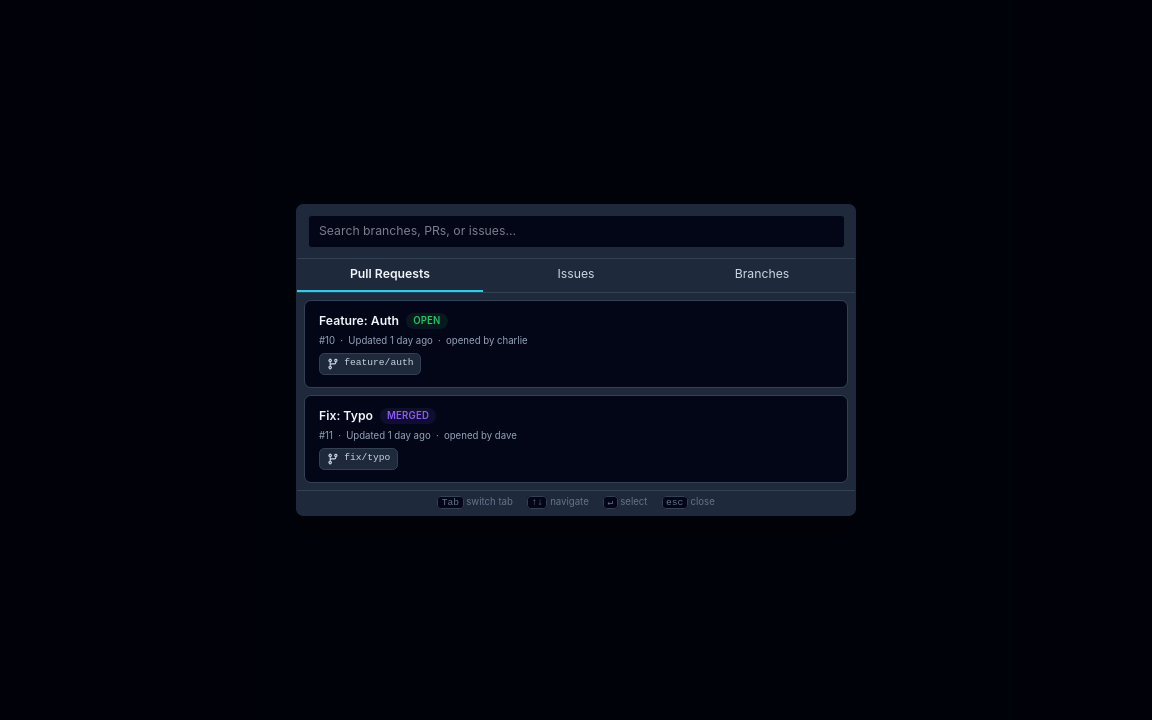
UnifiedSearchModal › switches to Issues tab on click
Click the button with test id "tab-issues": (576, 276) [483,259,669,292]
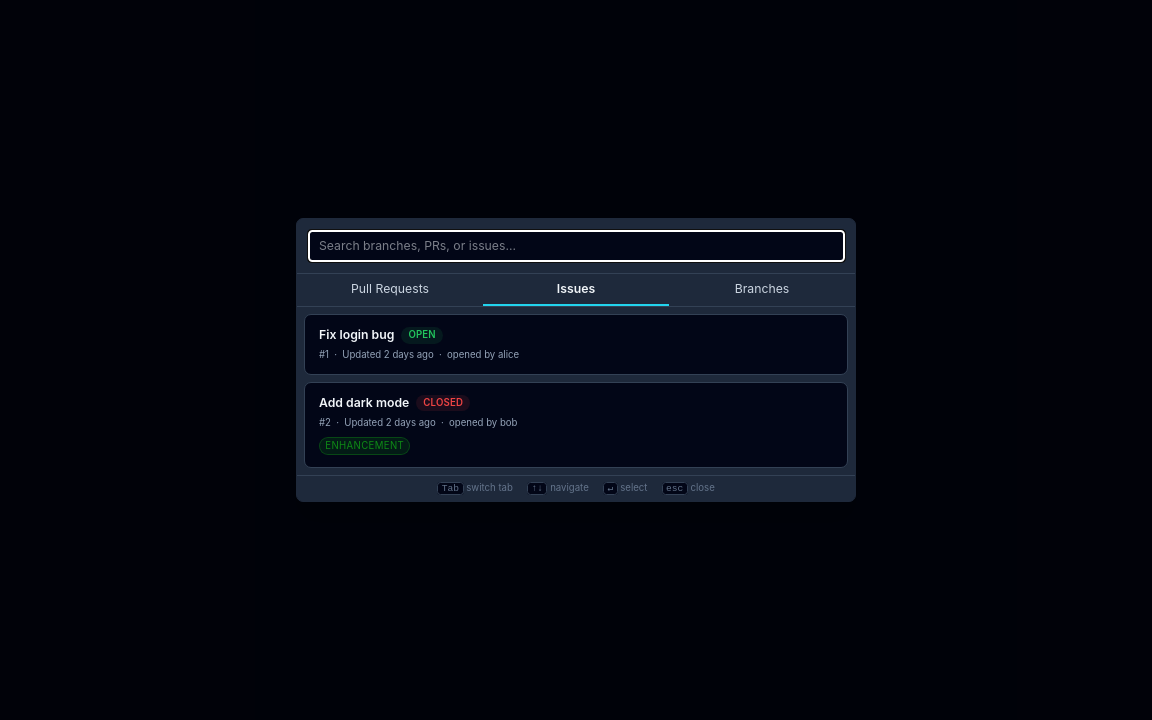
Check: the text "Fix login bug" is shown, box [319,327,394,344]
